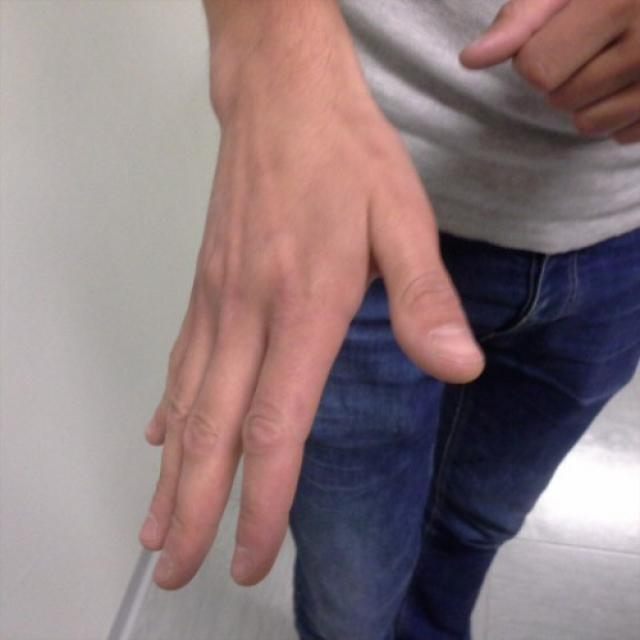paper: (138, 163, 486, 592)
